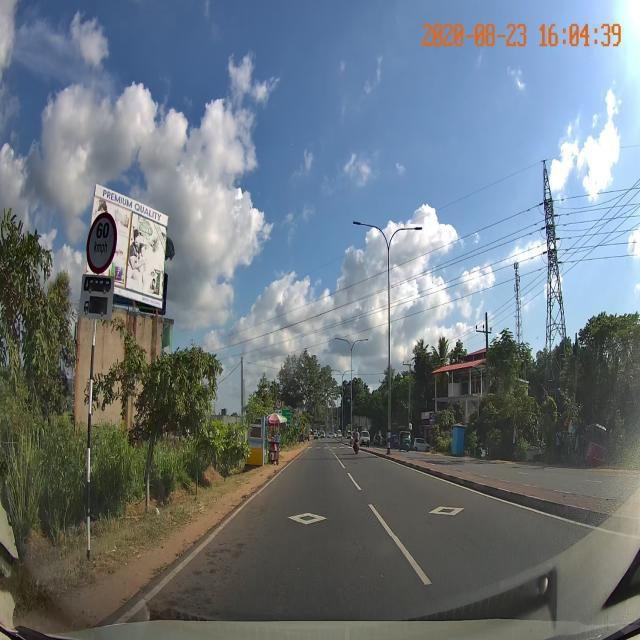diamond: (205, 494, 408, 536)
